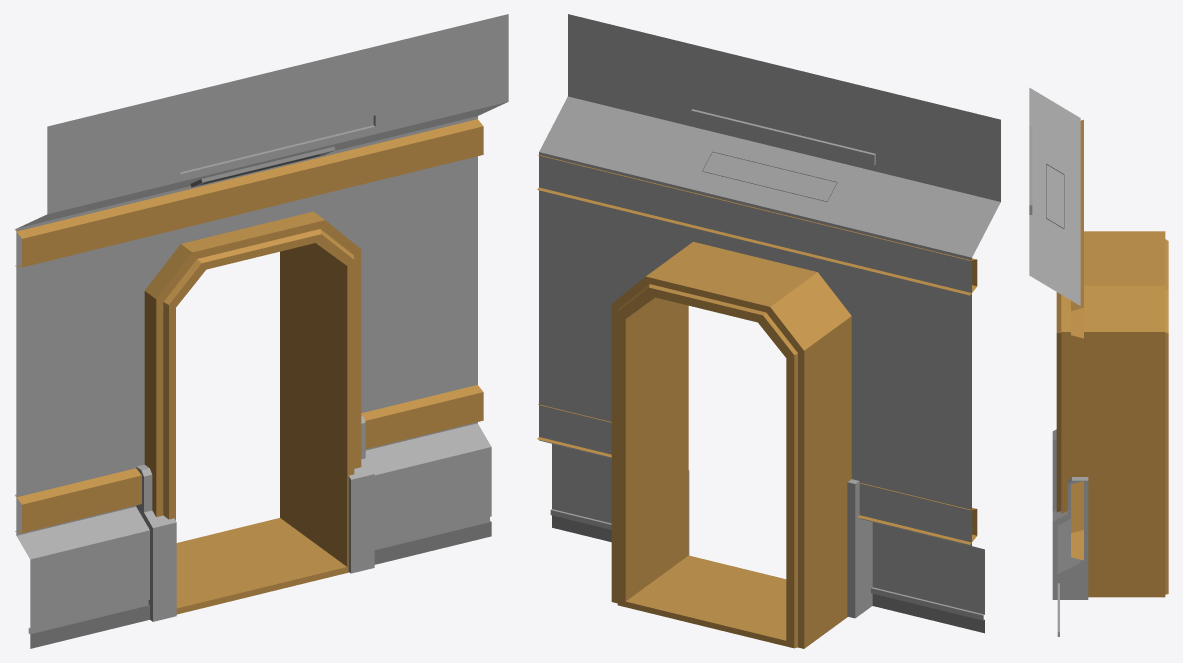
Rendered from DoorSingle_Wall_SideA.fbx.
3 renders of one model, left to right at view 1: azimuth 30°, elevation 25°; view 2: azimuth 150°, elevation 25°; view 3: azimuth 270°, elevation 25°, orthographic. The views are drawn at different scales.
Visible parts, largest first — view 1: DoorSingle_Wall_SideA; view 2: DoorSingle_Wall_SideA; view 3: DoorSingle_Wall_SideA.
Boxes of the visible parts, x1,y1,x2,y2 form: DoorSingle_Wall_SideA: (14, 14, 508, 648); DoorSingle_Wall_SideA: (537, 14, 1000, 648); DoorSingle_Wall_SideA: (1029, 87, 1168, 636).
Bounding box in the file's own units: 4 × 4.44 × 1.25.
